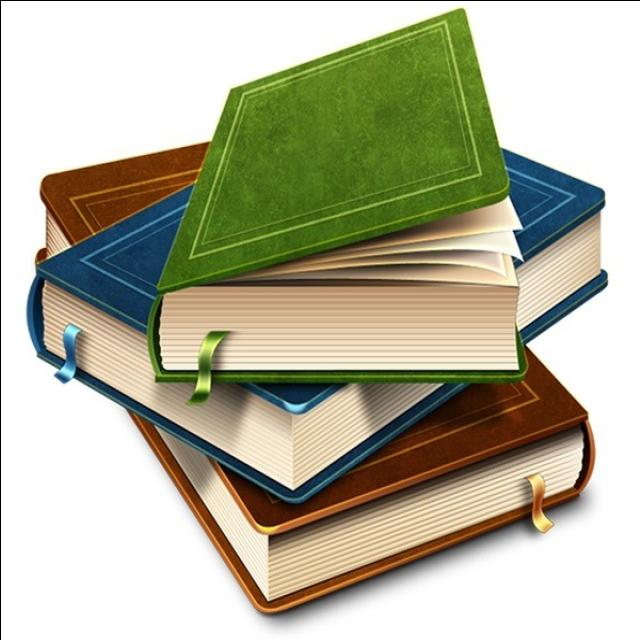book: (119, 1, 538, 398)
